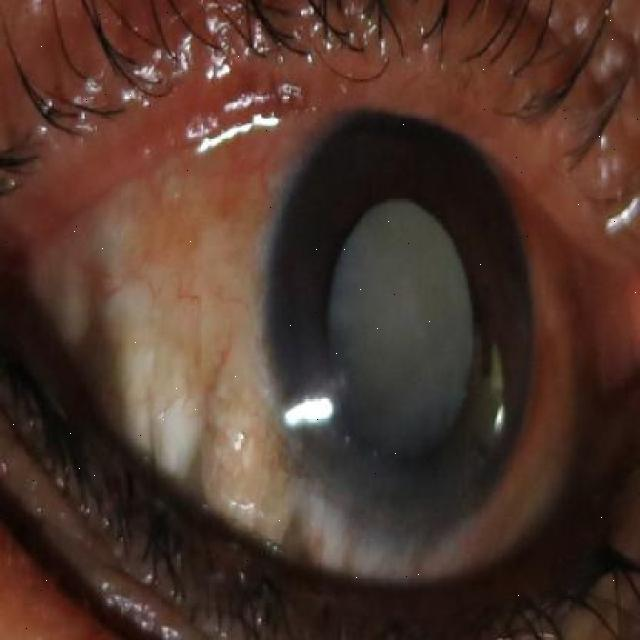Cataract: (264, 112, 530, 544)
